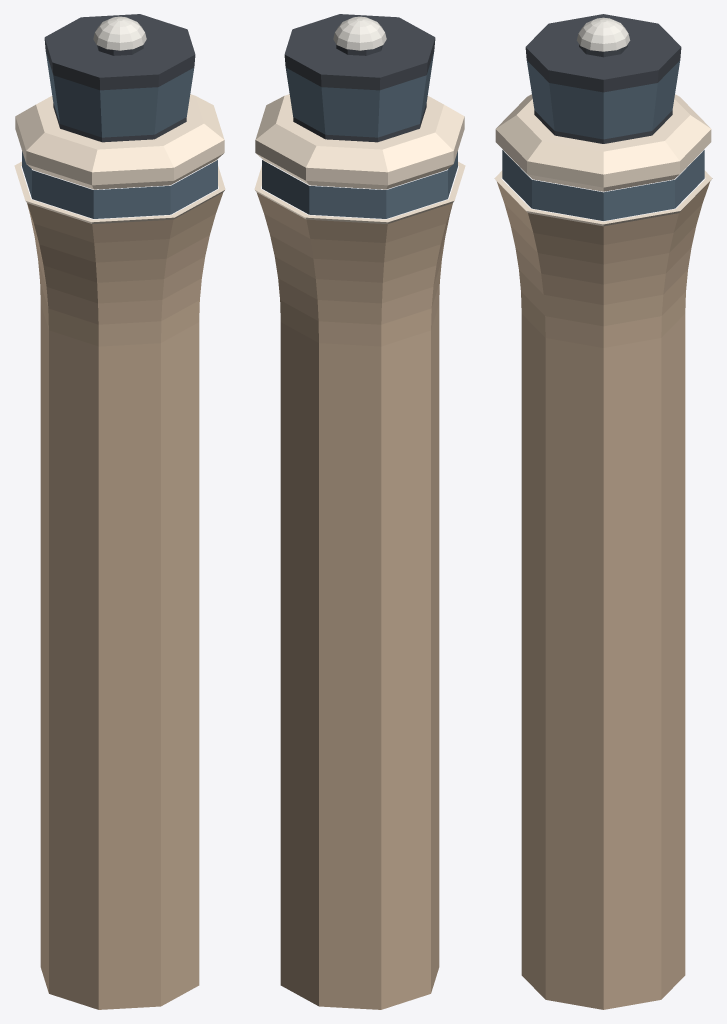
The model's file is hou-iah-control-tower.glb.
3 renders of one model, left to right at view 1: azimuth 30°, elevation 25°; view 2: azimuth 150°, elevation 25°; view 3: azimuth 270°, elevation 25°, orthographic.
Parts seen in each view (by area): view 1: George Bush Intercontinental Airport Control Tower; view 2: George Bush Intercontinental Airport Control Tower; view 3: George Bush Intercontinental Airport Control Tower.
Part boxes in pixels (<box>): George Bush Intercontinental Airport Control Tower: <box>14,14,225,1009</box>; George Bush Intercontinental Airport Control Tower: <box>254,14,465,1009</box>; George Bush Intercontinental Airport Control Tower: <box>494,14,712,1009</box>.
Bounding box in the file's own units: 21.21 × 102 × 21.21.
